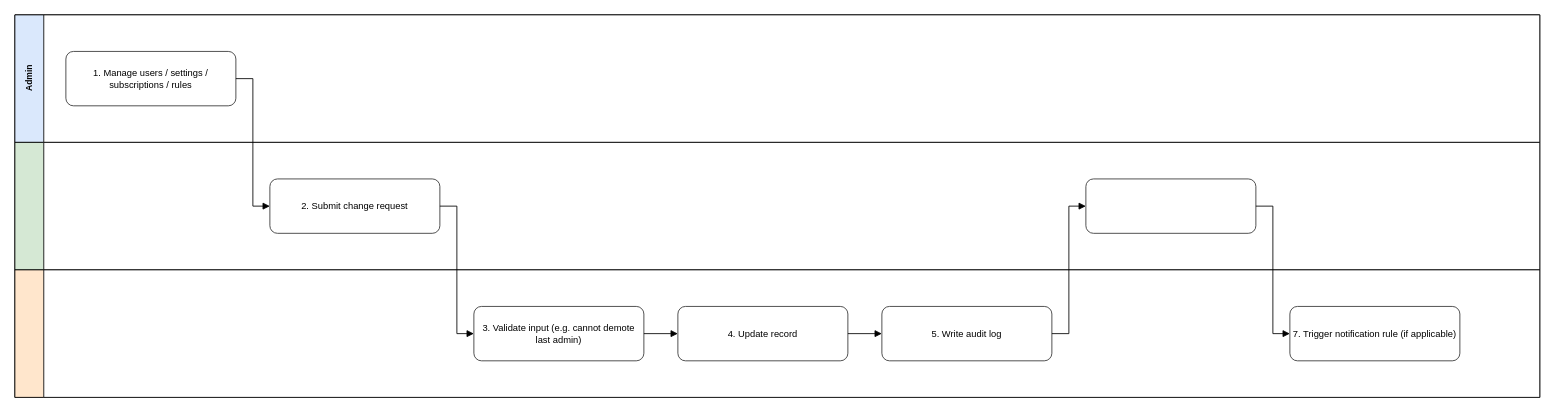
Image size: 1555x412. Some labels were removed from this diagram. The shapes that lost their labels are listed below. From the top down, each one's box as (x1, y1, x2, y2) in pixels, then its label:
(14, 142, 1540, 270): Frontend
(1085, 178, 1256, 233): 6. Show confirmation
(14, 269, 1540, 397): Backend
